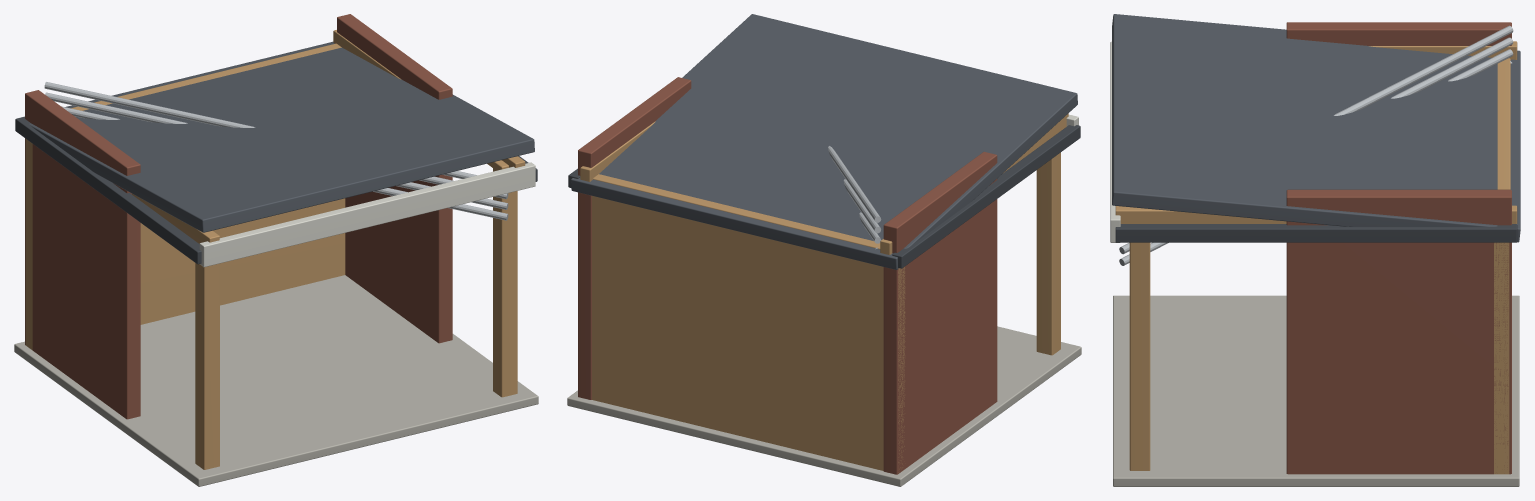
File: garage_lean_to.glb
The picture shows the model from 3 angles, left to right: view 1: azimuth 30°, elevation 25°; view 2: azimuth 150°, elevation 25°; view 3: azimuth 270°, elevation 25°; orthographic projection. The views are drawn at different scales.
Parts seen in each view (by area): view 1: Garage slab.002, Lean-to roof, Garage side wall.004, Garage back wall.002, Garage side wall.005, Tint.012, Carport post, Carport post.001, Gutter, Roof purlin.003, Roof purlin.002, Carport beam (+3 smaller); view 2: Lean-to roof, Garage back wall.002, Garage side wall.004, Garage slab.002, Garage side wall.005, Carport post, Gutter, Roof purlin.003, Carport beam.001, Carport beam; view 3: Lean-to roof, Garage side wall.005, Garage slab.002, Gutter.001, Garage back wall.002, Carport post.001, Garage side wall.004, Carport beam.001, Roof purlin.003, Roof purlin.002, Carport beam, Tint.012 (+1 smaller).
Boxes of the visible parts, <box> form: Garage slab.002: <box>14,275,538,486</box>; Lean-to roof: <box>29,41,534,232</box>; Garage side wall.004: <box>25,90,140,419</box>; Garage back wall.002: <box>25,43,345,350</box>; Garage side wall.005: <box>337,14,452,343</box>; Tint.012: <box>199,162,535,267</box>; Carport post: <box>195,231,219,469</box>; Carport post.001: <box>493,160,517,397</box>; Gutter: <box>15,116,201,264</box>; Roof purlin.003: <box>44,82,476,178</box>; Roof purlin.002: <box>45,92,508,199</box>; Carport beam: <box>132,194,219,243</box>; Lean-to roof: <box>571,14,1077,269</box>; Garage back wall.002: <box>592,174,905,472</box>; Garage side wall.004: <box>883,151,997,474</box>; Garage slab.002: <box>567,326,1081,486</box>; Garage side wall.005: <box>578,77,691,399</box>; Carport post: <box>1036,152,1060,355</box>; Gutter: <box>892,125,1080,268</box>; Roof purlin.003: <box>828,146,881,222</box>; Carport beam.001: <box>580,121,655,181</box>; Carport beam: <box>880,113,1068,254</box>; Lean-to roof: <box>1112,14,1520,242</box>; Garage side wall.005: <box>1286,189,1511,474</box>; Garage slab.002: <box>1113,295,1519,486</box>; Gutter.001: <box>1115,224,1517,242</box>; Garage back wall.002: <box>1494,58,1510,474</box>; Carport post.001: <box>1129,242,1150,470</box>; Garage side wall.004: <box>1286,22,1511,45</box>; Carport beam.001: <box>1115,205,1517,223</box>; Roof purlin.003: <box>1334,25,1513,115</box>; Roof purlin.002: <box>1391,37,1513,98</box>; Carport beam: <box>1369,41,1517,59</box>; Tint.012: <box>1110,41,1120,242</box>.
Size of the model in its own units: 3.34 by 2.5 by 3.17.
